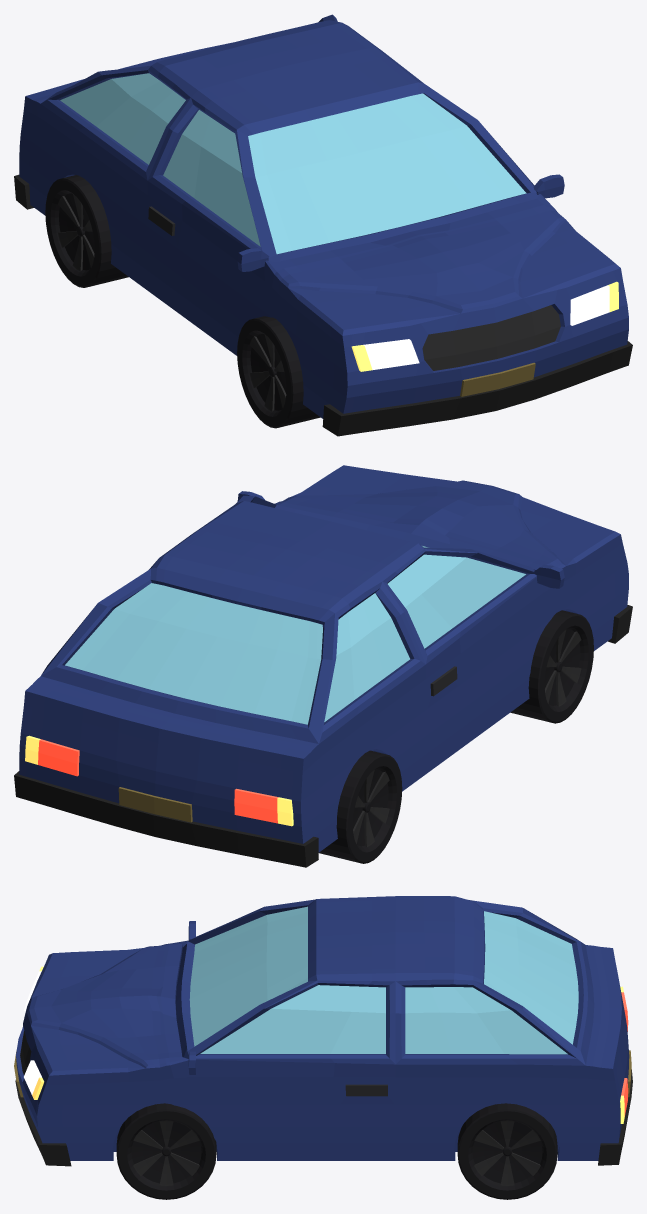
File: Large_Car.fbx
The picture shows the model from 3 angles, top to bottom: view 1: azimuth 30°, elevation 25°; view 2: azimuth 150°, elevation 25°; view 3: azimuth 270°, elevation 25°; orthographic projection. The views are drawn at different scales.
Parts seen in each view (by area): view 1: Larger_Car, Larger_Car_Wheel3, Larger_Car_Wheel1; view 2: Larger_Car, Larger_Car_Wheel3, Larger_Car_Wheel1; view 3: Larger_Car, Larger_Car_Wheel4, Larger_Car_Wheel2.
Part boxes in pixels (x1,y1,x2,y2): Larger_Car: (14, 14, 632, 436); Larger_Car_Wheel3: (45, 175, 128, 287); Larger_Car_Wheel1: (237, 316, 320, 428); Larger_Car: (14, 465, 632, 867); Larger_Car_Wheel3: (319, 750, 402, 863); Larger_Car_Wheel1: (510, 610, 593, 723); Larger_Car: (14, 896, 632, 1166); Larger_Car_Wheel4: (457, 1103, 557, 1199); Larger_Car_Wheel2: (116, 1103, 216, 1199).
Size of the model in its own units: 2.21 by 1.49 by 4.13.
